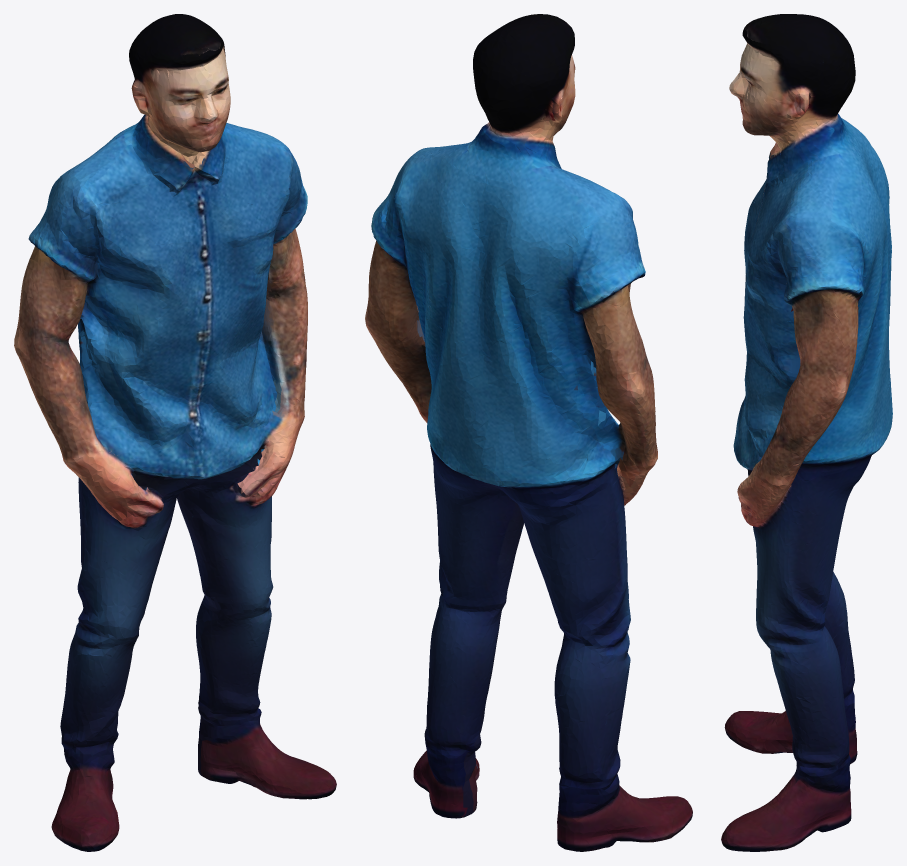
File: h3t_fullbody_0002.glb
The picture shows the model from 3 angles, left to right: view 1: azimuth 30°, elevation 25°; view 2: azimuth 150°, elevation 25°; view 3: azimuth 270°, elevation 25°; orthographic projection.
Visible parts, largest first — view 1: geometry_0; view 2: geometry_0; view 3: geometry_0.
Boxes of the visible parts, box(x1,y1,x2,y2) form: geometry_0: box(14, 14, 336, 851); geometry_0: box(365, 14, 692, 851); geometry_0: box(721, 14, 892, 851).
Size of the model in its own units: 0.747 by 1.99 by 0.3994.
1 material, 1 textured.
